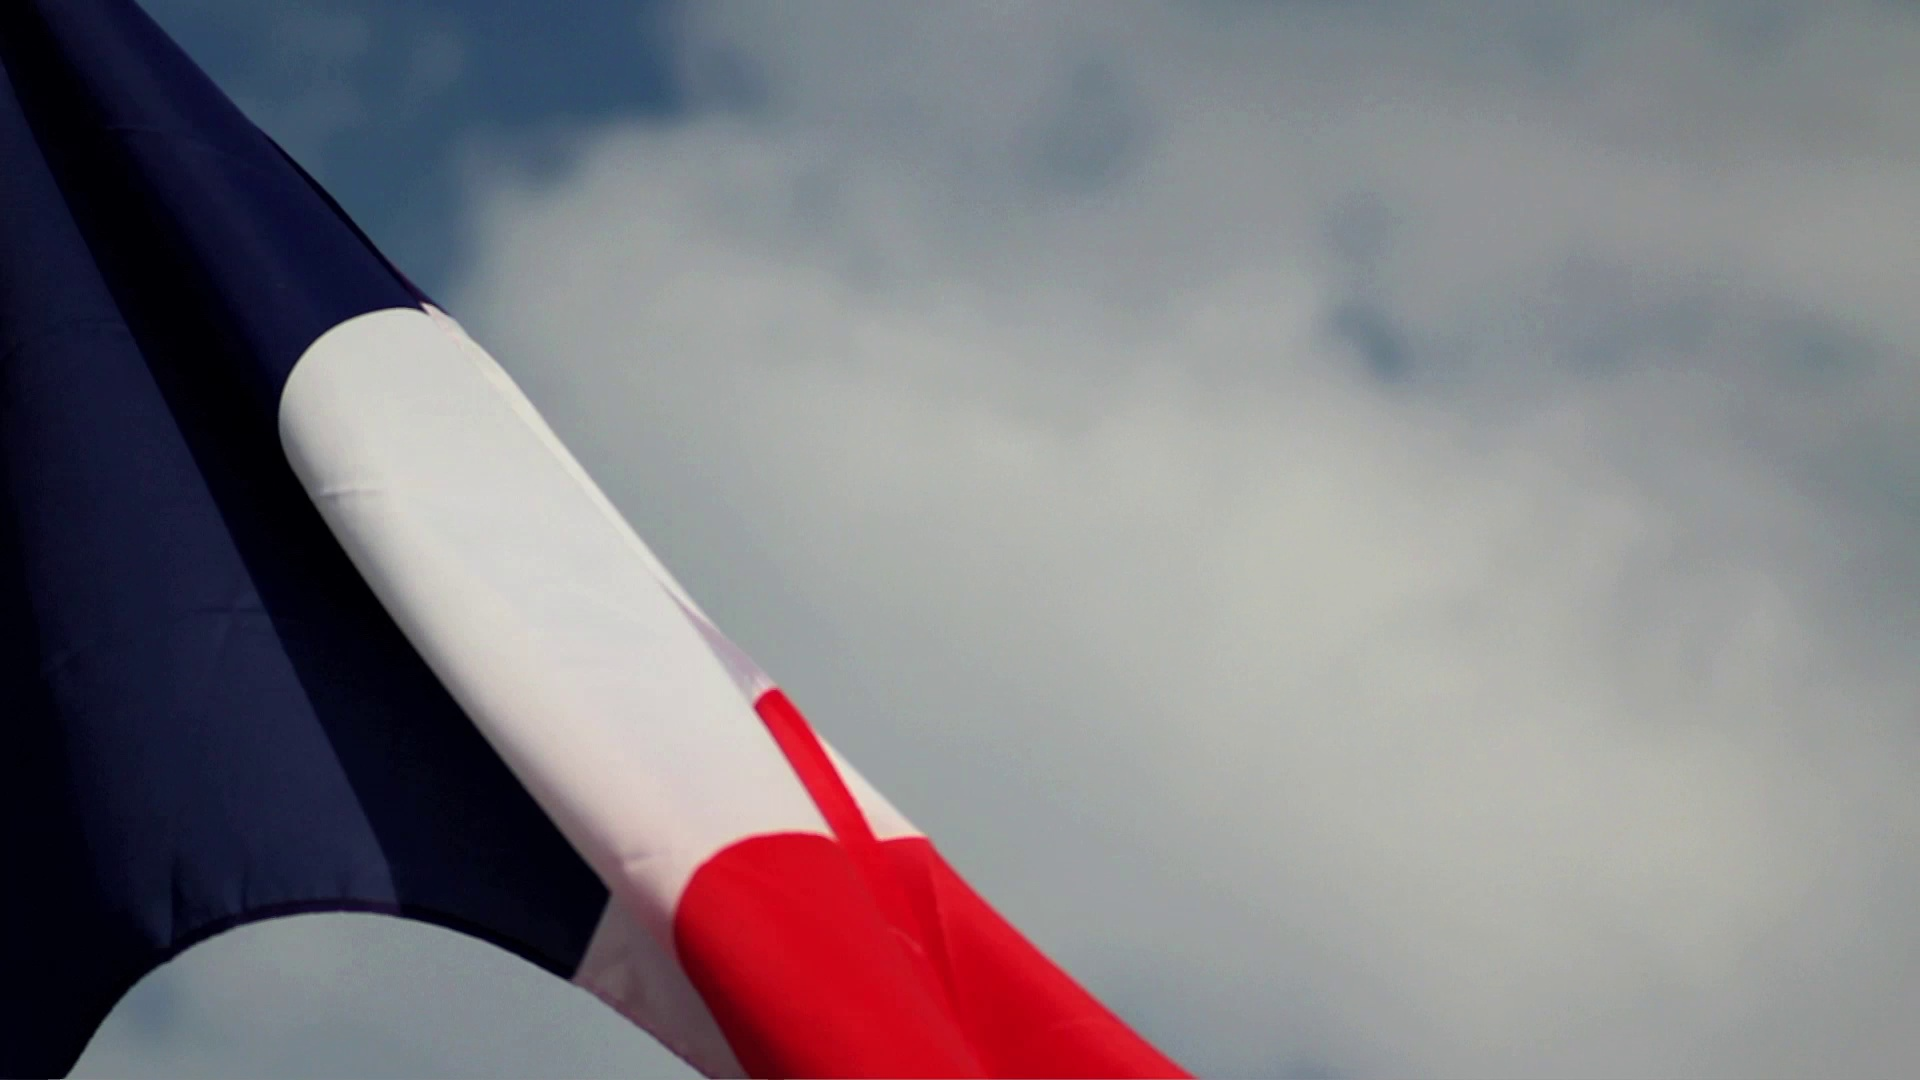French Flag: (1, 1, 1208, 1080)
